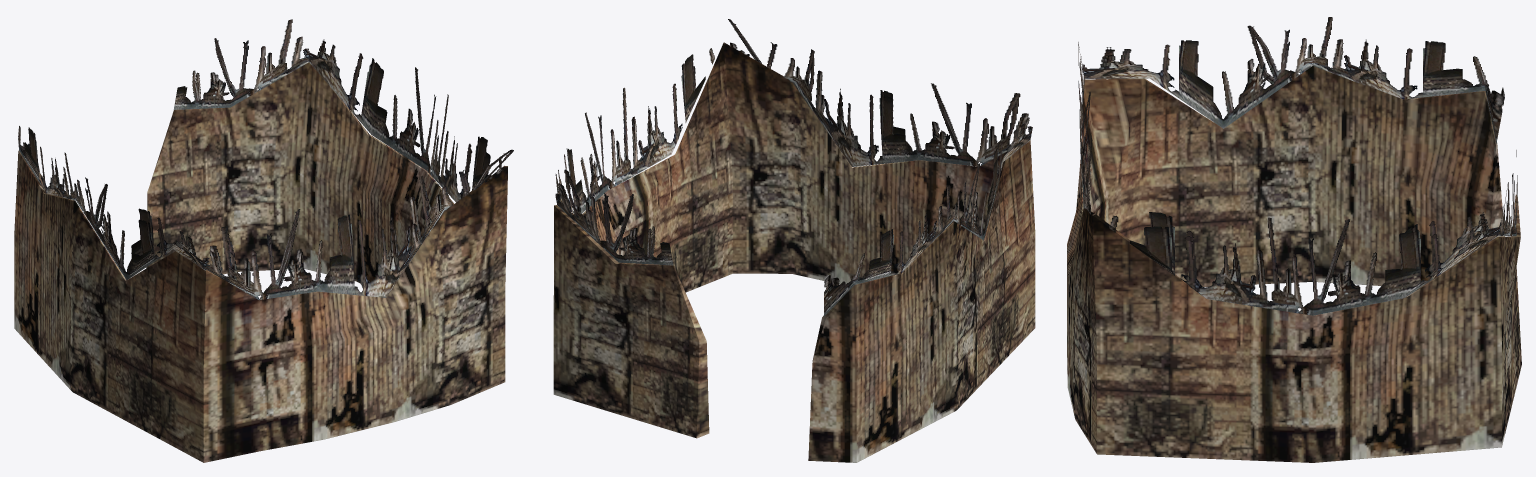
File: MgSlm05X.glb
3 views of the same model, side by side, from view 1: azimuth 30°, elevation 25°; view 2: azimuth 150°, elevation 25°; view 3: azimuth 270°, elevation 25° (orthographic). The views are drawn at different scales.
Visible parts, largest first — view 1: _MogSlm5X; view 2: _MogSlm5X; view 3: _MogSlm5X.
Boxes of the visible parts, left/top/right/bottom form: _MogSlm5X: left=14, top=19, right=513, bottom=462; _MogSlm5X: left=553, top=19, right=1035, bottom=462; _MogSlm5X: left=1067, top=17, right=1521, bottom=462.
Bounding box in the file's own units: 4.02 × 2.52 × 3.92.
Materials: 2 (2 with a texture image).
